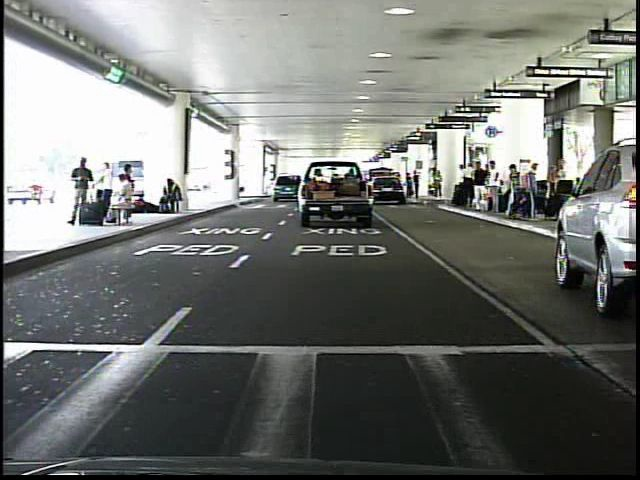person: (74, 155, 99, 229), (468, 158, 490, 218), (486, 159, 504, 217), (453, 160, 472, 210), (432, 166, 448, 206), (404, 169, 415, 202), (413, 170, 423, 203)
